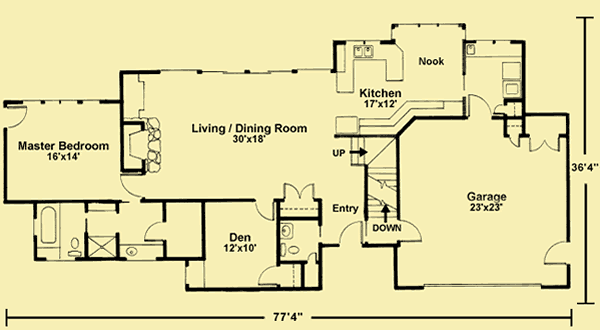bathroom has small and large sink: (276, 217, 318, 260)
bathroom having tub and shower space and small and large sinks: (30, 198, 166, 259)
kitchen has a twin sink and other cooking facility: (332, 24, 467, 140)
laundry room has a washer and dryer: (463, 37, 526, 120)
stairs are near entry for the other floors: (333, 133, 404, 246)
this is a large garage: (400, 116, 571, 294)
